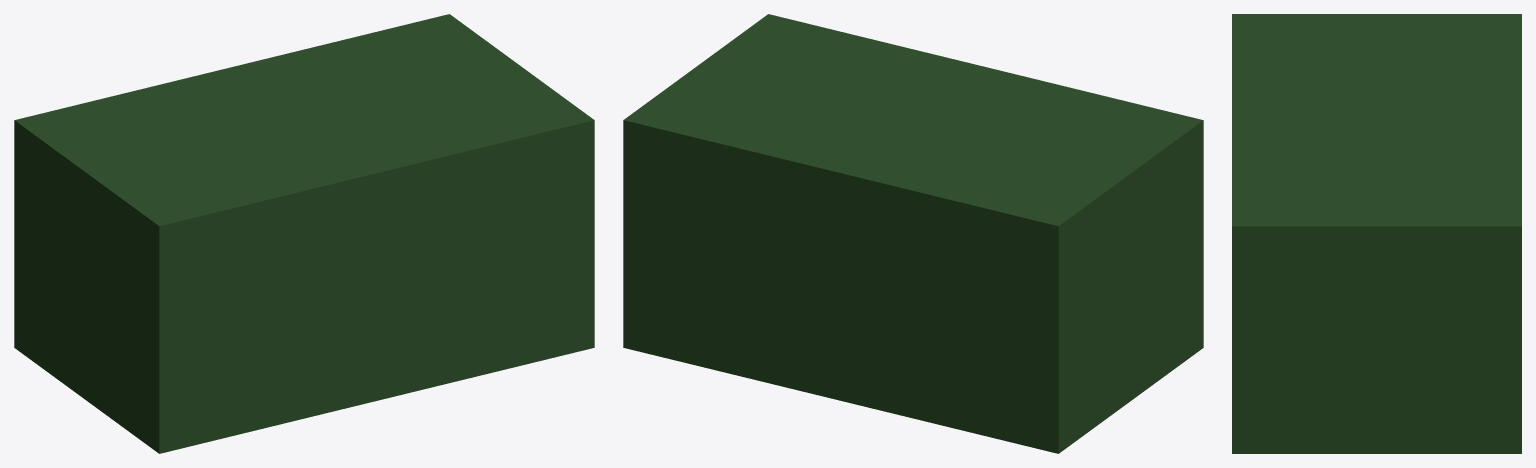
File: quad_13_forest_forest_forest_forest.glb
The picture shows the model from 3 angles, left to right: view 1: azimuth 30°, elevation 25°; view 2: azimuth 150°, elevation 25°; view 3: azimuth 270°, elevation 25°; orthographic projection.
Visible parts, largest first — view 1: Quad.008; view 2: Quad.008; view 3: Quad.008.
Boxes of the visible parts, x1,y1,x2,y2 form: Quad.008: (14, 14, 594, 453); Quad.008: (623, 14, 1203, 453); Quad.008: (1232, 14, 1521, 453).
Size of the model in its own units: 1 by 0.5 by 0.577.
